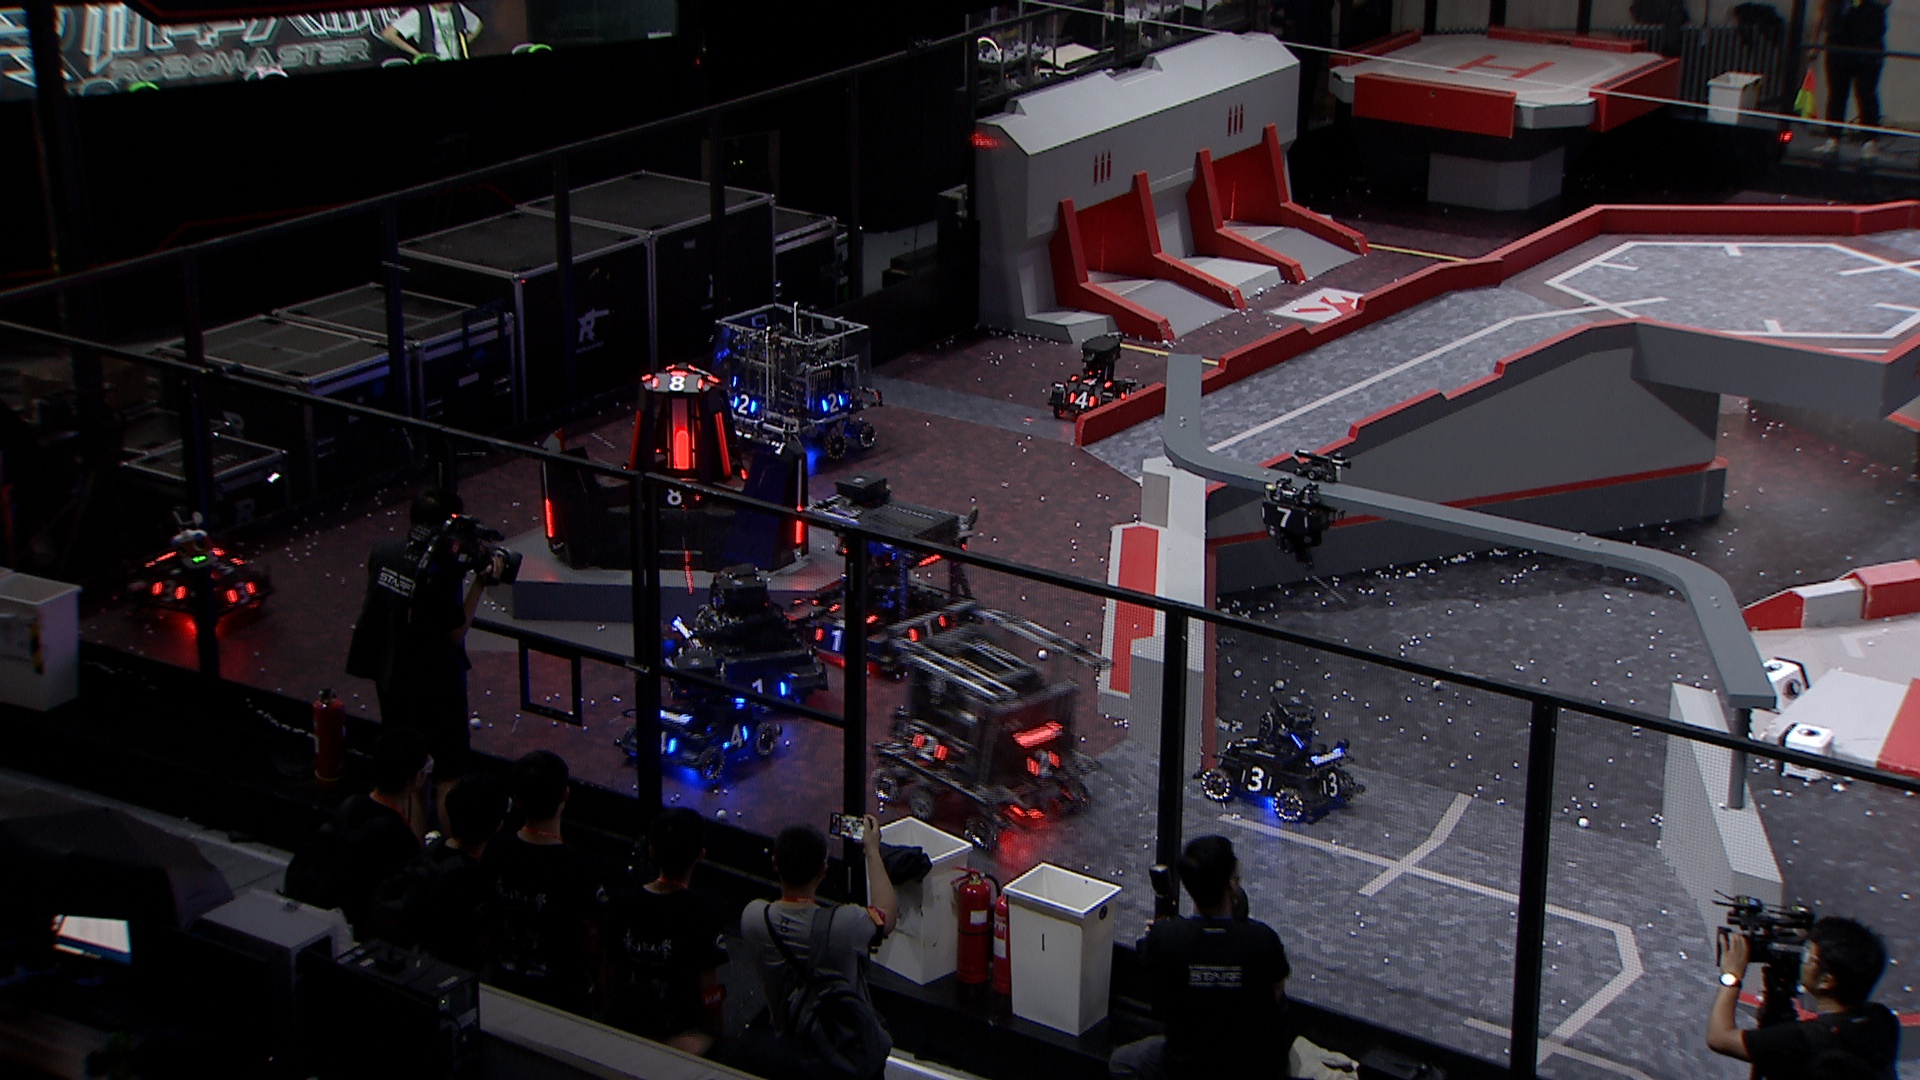armor: (1259, 502, 1309, 531), (666, 429, 698, 471), (713, 410, 733, 477), (737, 675, 790, 700), (1237, 764, 1276, 796), (911, 731, 949, 764), (906, 612, 948, 641), (207, 553, 251, 579), (1026, 749, 1063, 779), (650, 375, 704, 394), (150, 579, 190, 605), (655, 487, 702, 509), (814, 628, 849, 657), (719, 721, 752, 752), (626, 410, 642, 469), (224, 579, 258, 603), (1068, 372, 1116, 389), (731, 390, 761, 415), (655, 728, 679, 757), (1320, 769, 1342, 799), (541, 498, 556, 541), (822, 392, 851, 414), (1068, 390, 1097, 410), (1233, 732, 1262, 749), (793, 520, 806, 546)
base: (533, 353, 812, 574)
car: (865, 597, 1116, 844), (787, 473, 989, 676), (700, 295, 885, 463), (647, 564, 832, 717), (621, 647, 795, 782), (1204, 687, 1360, 825), (128, 522, 277, 632), (1044, 335, 1147, 429)
watcher: (1253, 447, 1352, 572)
